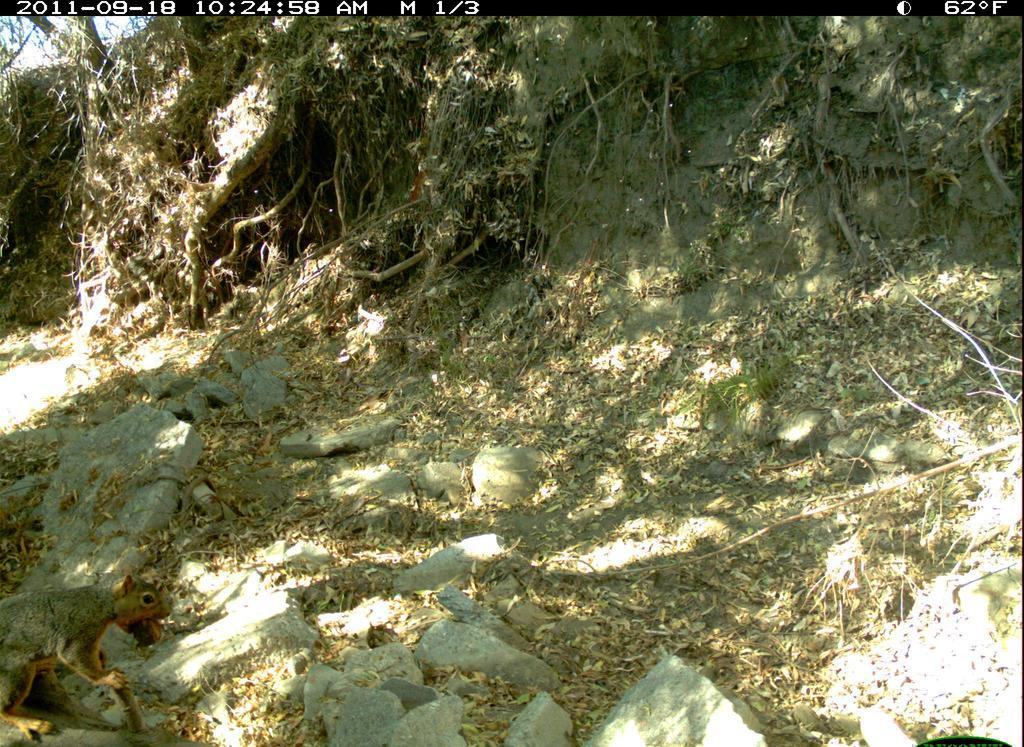squirrel: (1, 551, 182, 747)
